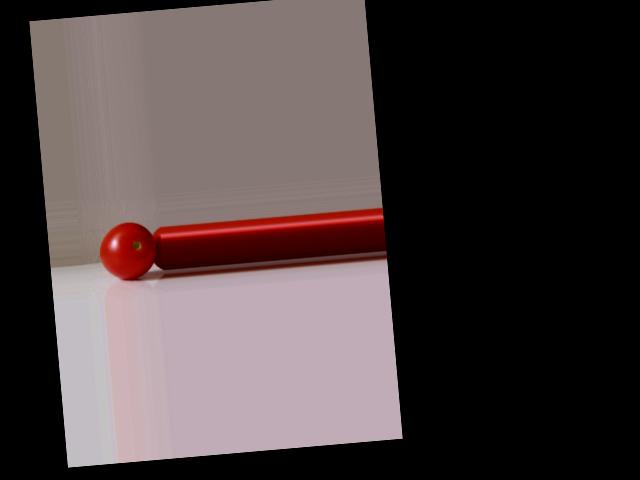tomato: (97, 220, 158, 281)
